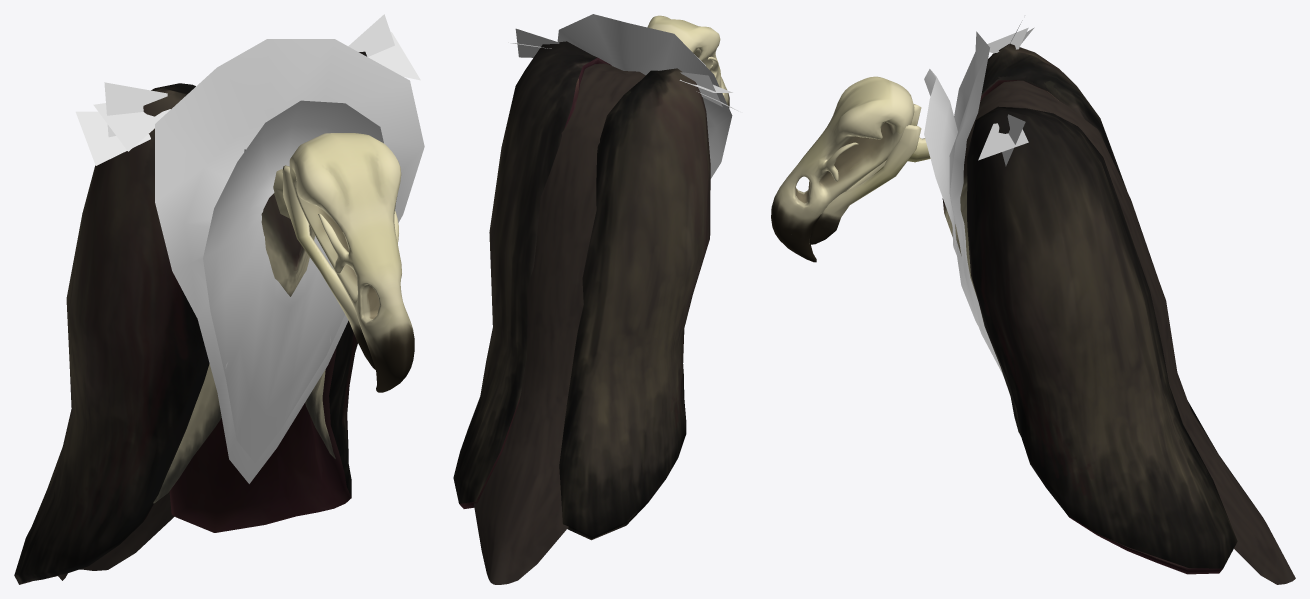
Rendered from Vulture.fbx.
3 renders of one model, left to right at view 1: azimuth 30°, elevation 25°; view 2: azimuth 150°, elevation 25°; view 3: azimuth 270°, elevation 25°, orthographic. The views are drawn at different scales.
Visible parts, largest first — view 1: Cube.001; view 2: Cube.001; view 3: Cube.001.
Part boxes in pixels (bbox=[...]): Cube.001: bbox=[14, 14, 424, 584]; Cube.001: bbox=[453, 14, 738, 584]; Cube.001: bbox=[771, 20, 1295, 584].
Size of the model in its own units: 1463 by 2955 by 2649.
2 materials, 1 textured.
